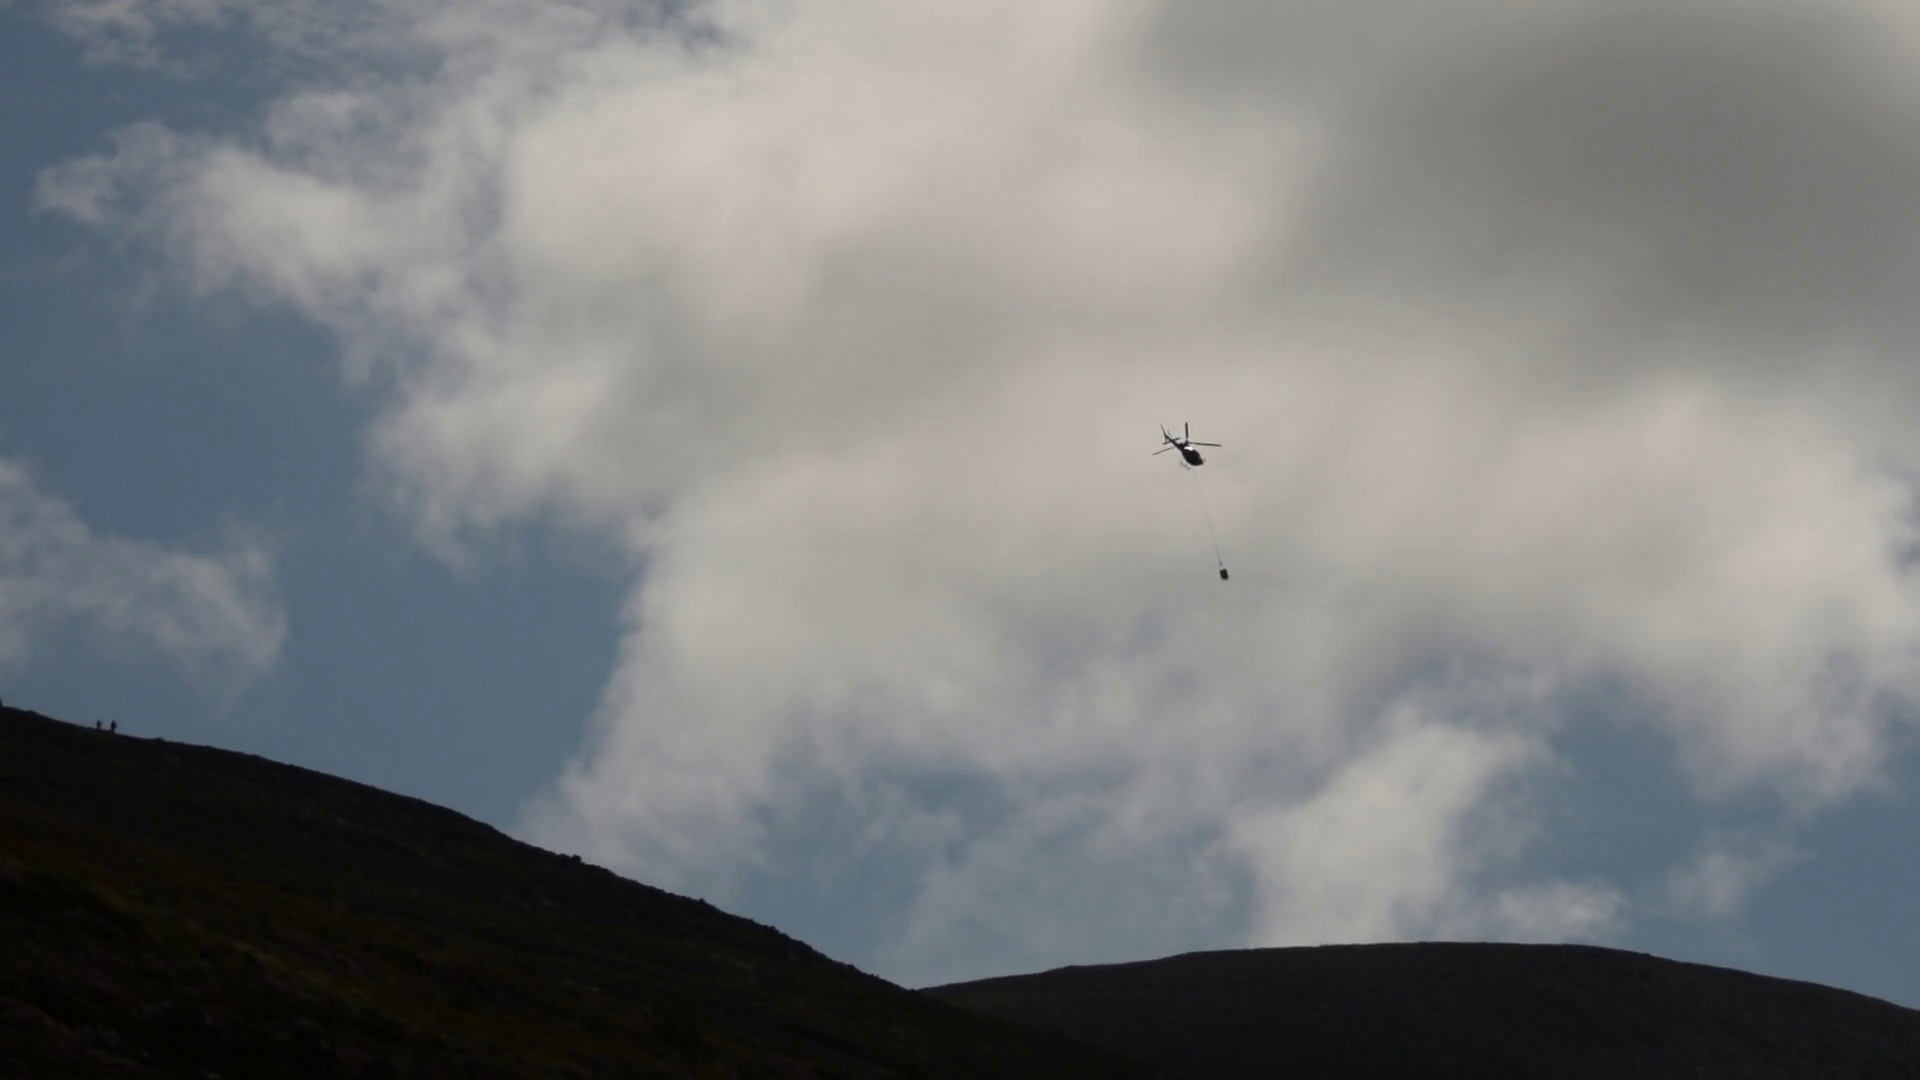heli: (1153, 421, 1221, 473)
